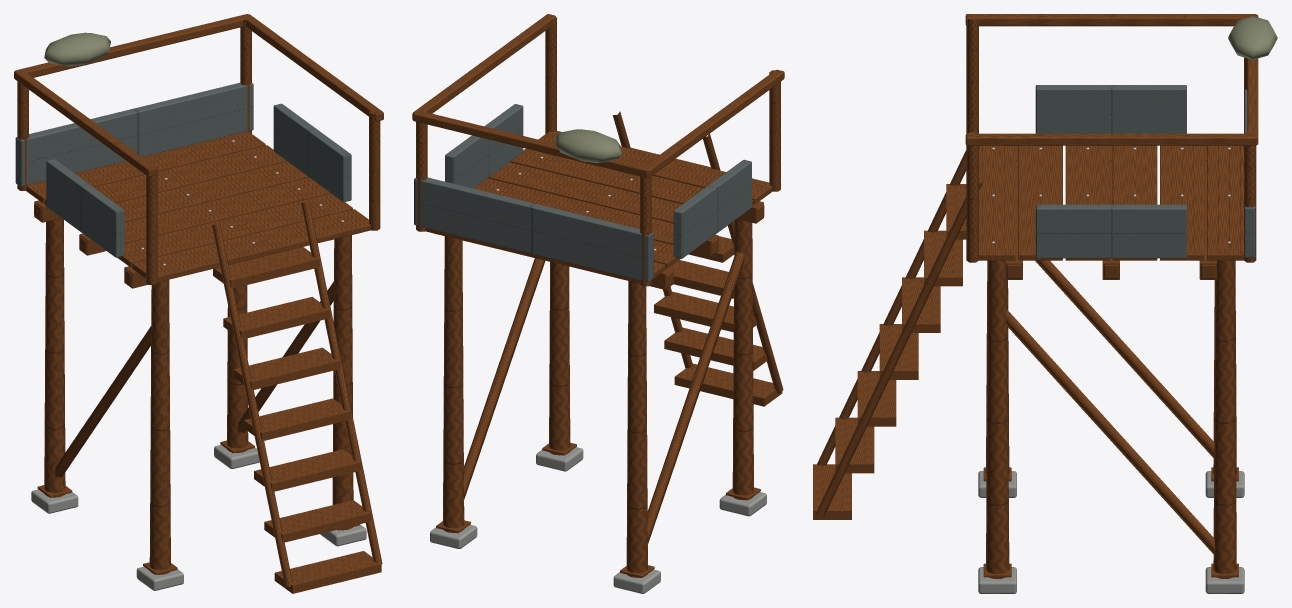
Rendered from fps-survival-forest-outpost-watch-platform-8aa2689f__32644.glb.
The picture shows the model from 3 angles, left to right: view 1: azimuth 30°, elevation 25°; view 2: azimuth 150°, elevation 25°; view 3: azimuth 270°, elevation 25°; orthographic projection. The views are drawn at different scales.
Visible parts, largest first — view 1: watch-platform; view 2: watch-platform; view 3: watch-platform.
Part boxes in pixels (x1,y1,x2,y2): watch-platform: (14, 14, 383, 593); watch-platform: (412, 14, 784, 593); watch-platform: (813, 14, 1277, 593).
Size of the model in its own units: 2.12 by 3.86 by 3.35.
Materials: 5 (3 with a texture image).
